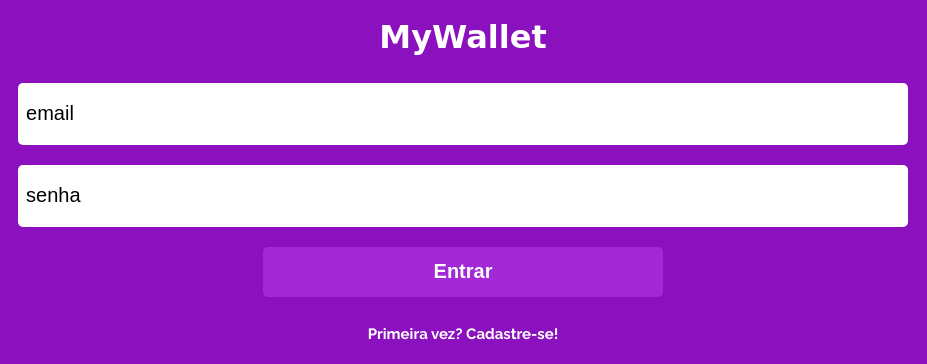
Test: Login › should login failed and an alert message appears because email field is blank
The width and height of the screenshot is (927, 364).
Type "123456Aa1!" into the password field with placeholder "senha".
click(463, 196); type("123456Aa1!")  # box [18, 165, 908, 227]
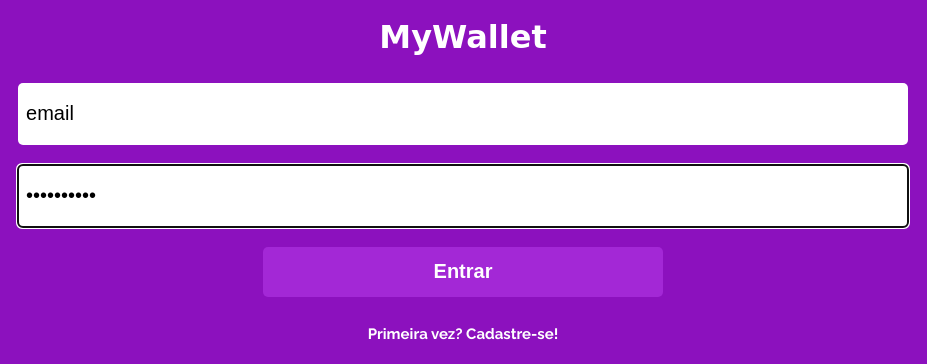
Click the submit button.
click(463, 272)  # box [263, 247, 663, 297]
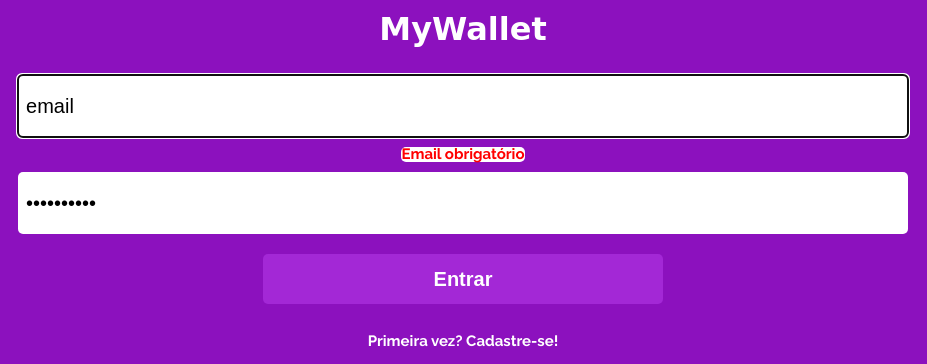
Now the text "Email obrigatório" is shown, box [402, 147, 525, 162]
